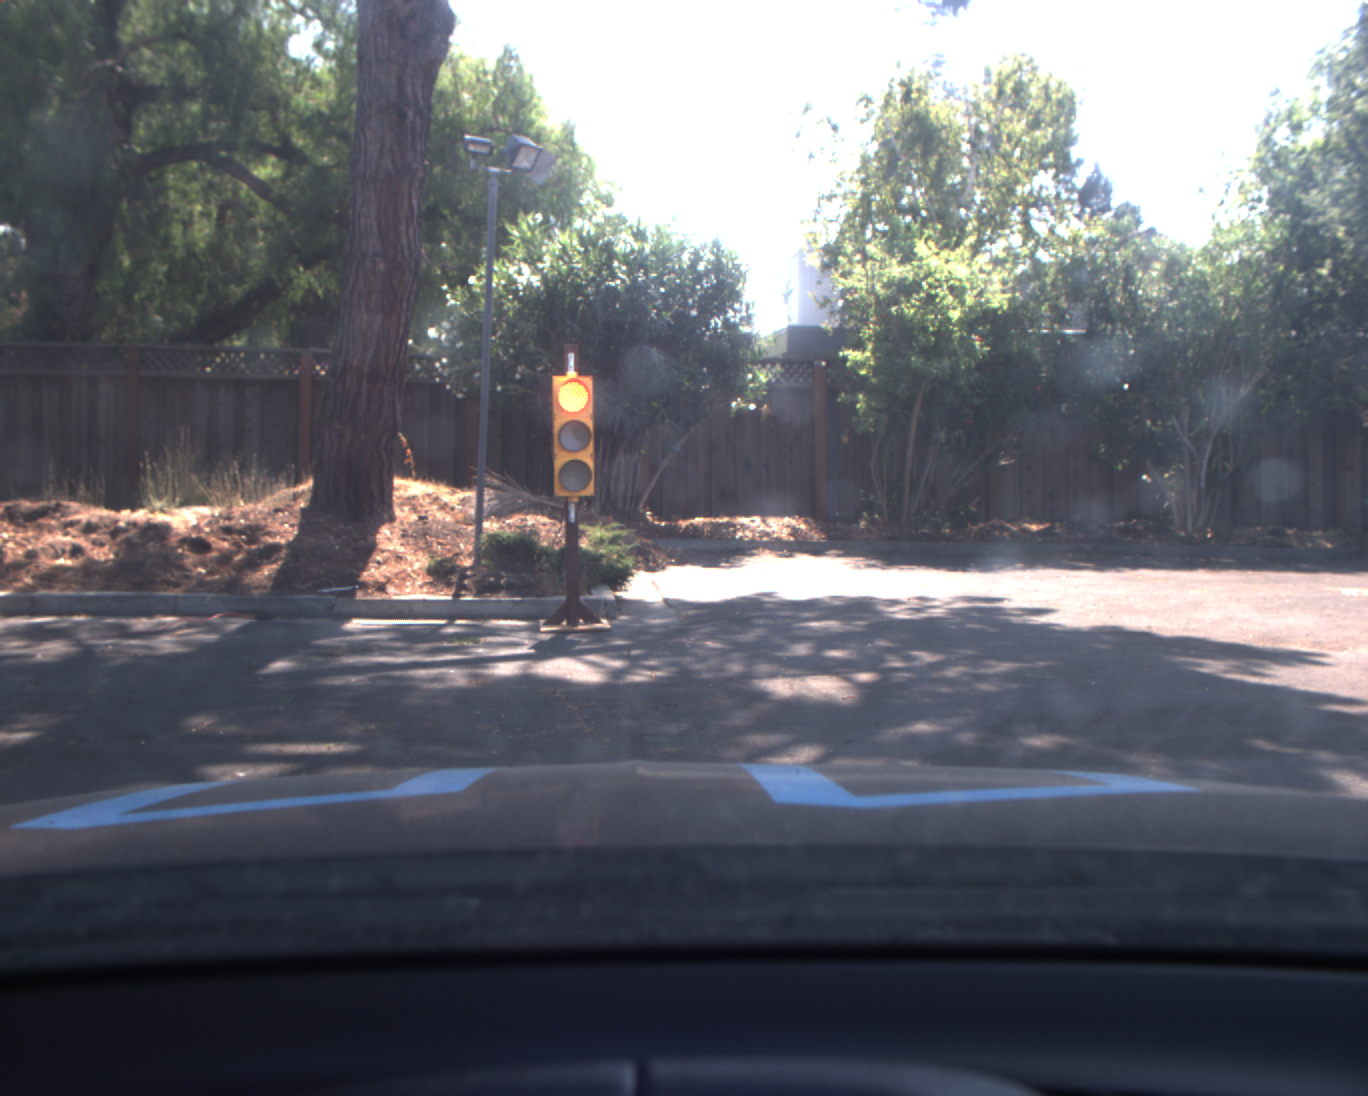red: (549, 372, 598, 498)
